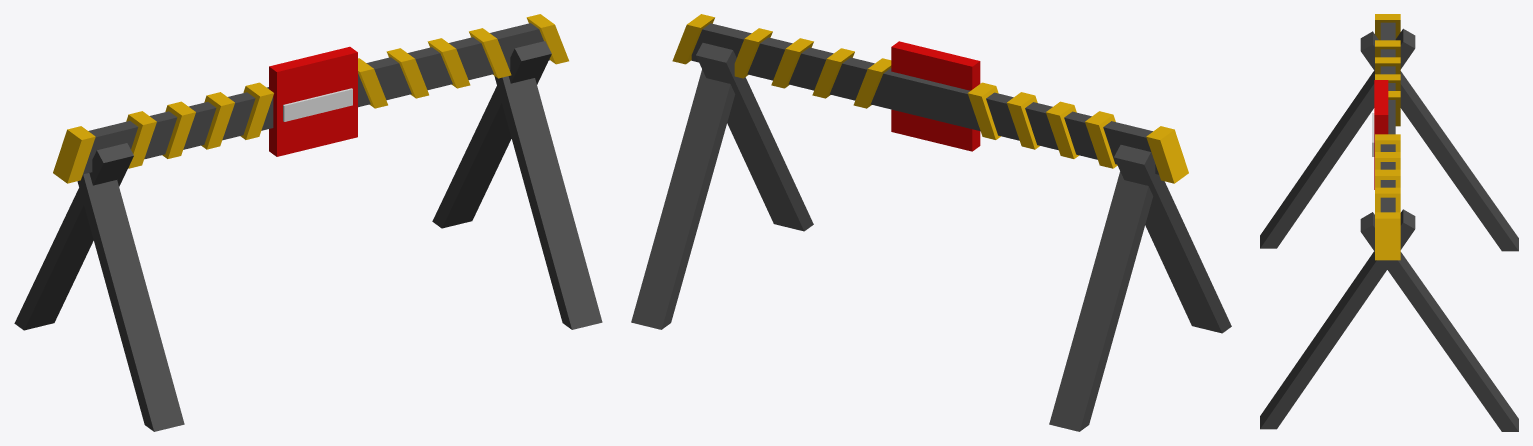
Rendered from stopSign.fbx.
3 renders of one model, left to right at view 1: azimuth 30°, elevation 25°; view 2: azimuth 150°, elevation 25°; view 3: azimuth 270°, elevation 25°, orthographic. The views are drawn at different scales.
Parts seen in each view (by area): view 1: pCube46; view 2: pCube46; view 3: pCube46.
Boxes of the visible parts, <box> form: pCube46: <box>14,14,602,431</box>; pCube46: <box>631,14,1231,431</box>; pCube46: <box>1260,14,1518,431</box>.
Bounding box in the file's own units: 3.29 × 1.67 × 1.66.
